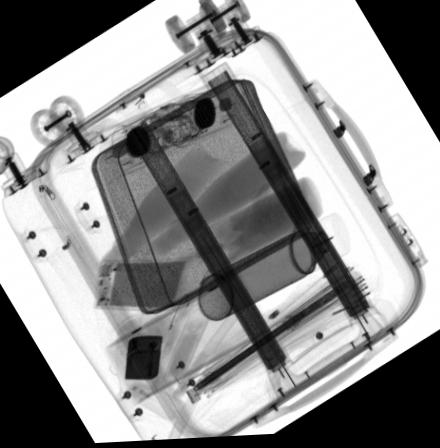Lighter: (123, 337, 163, 382)
Powerbank: (93, 259, 192, 312)
Sprayer: (196, 215, 350, 323)
